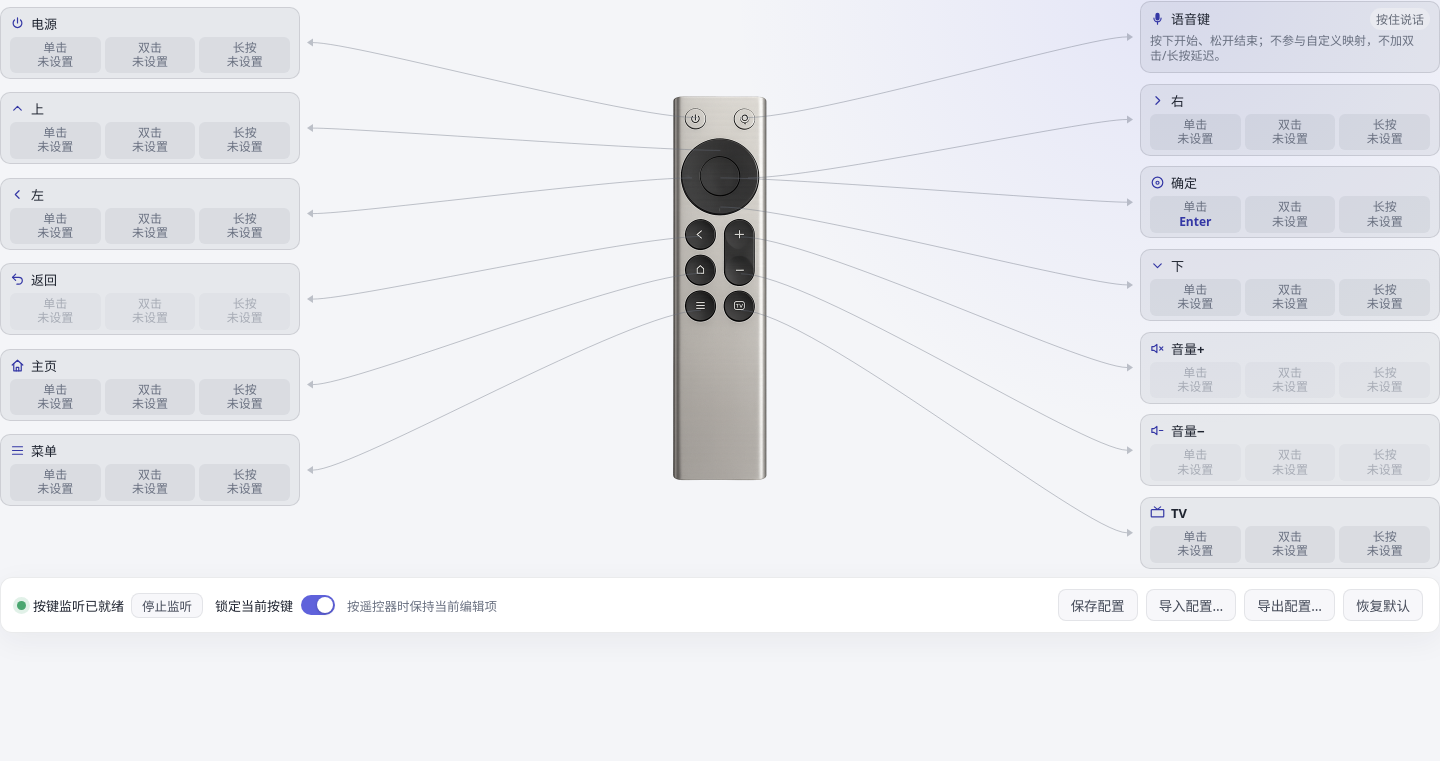
buttons mapping page › 电源（直接归因族）全开放且无单响应提示
Check: the element with class "mapping-card" showing "电源 单击 未设置 双击 未设置 长按 未设置" is shown, box [0,7,300,79]
Step 1. Click the button with class "mapping-cell" below "电源" → (245, 55), box [199,37,290,73]
(page scrolled)
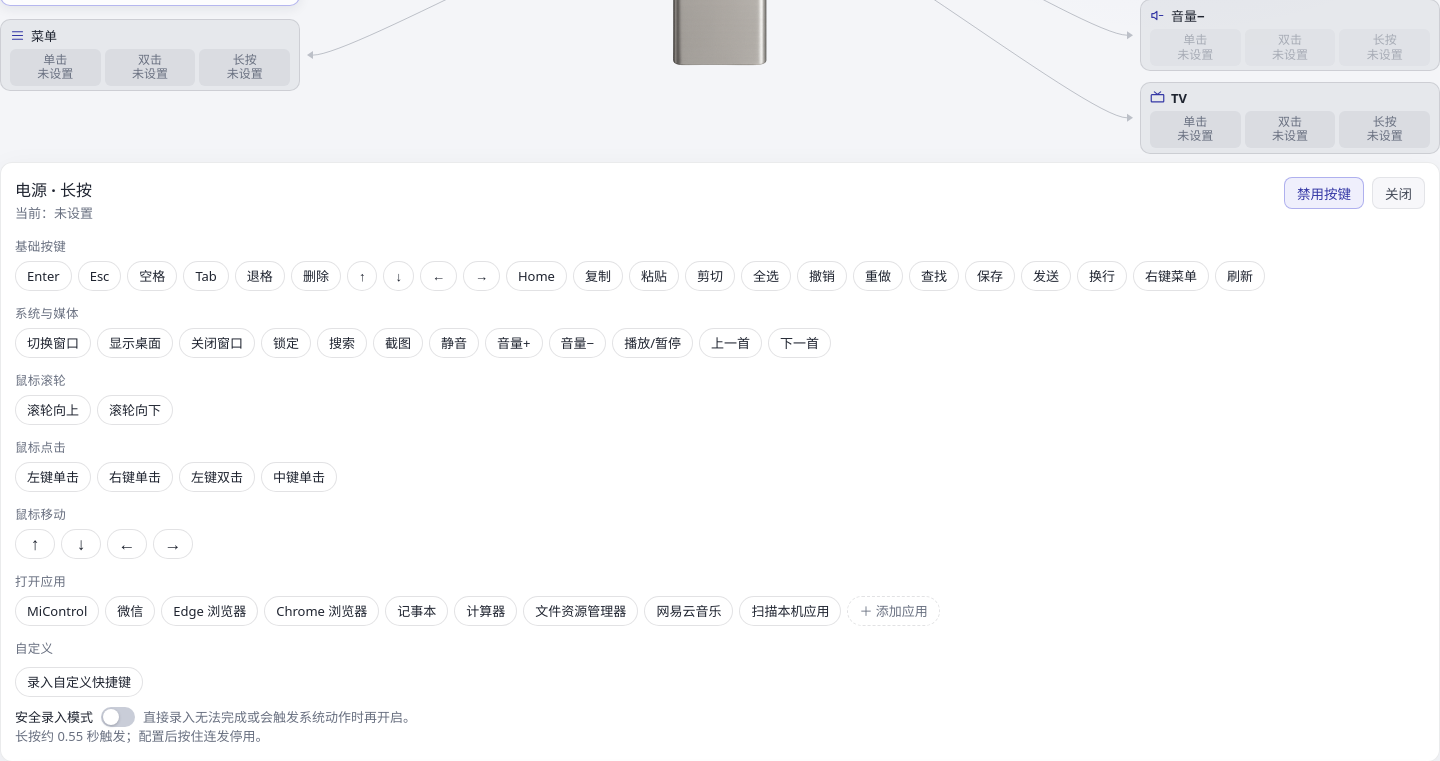
Check: the element with class "mapping-editor" is shown
Check: the button with class "chip" showing "Esc" is shown, box [78,260,121,290]
Check: the button with class "chip" showing "截图" is shown, box [373,328,423,358]
